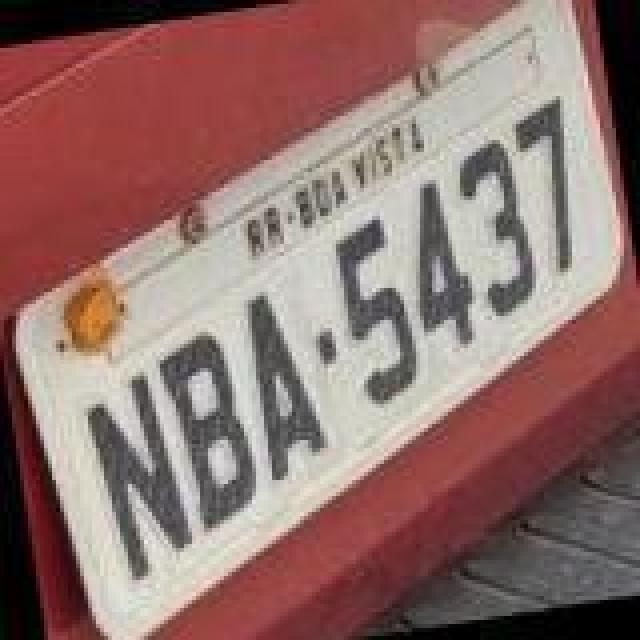3: (448, 132, 544, 324)
4: (396, 174, 484, 354)
5: (328, 210, 424, 414)
7: (510, 90, 594, 278)
A: (240, 282, 336, 486)
B: (150, 326, 266, 538)
N: (78, 364, 202, 588)
